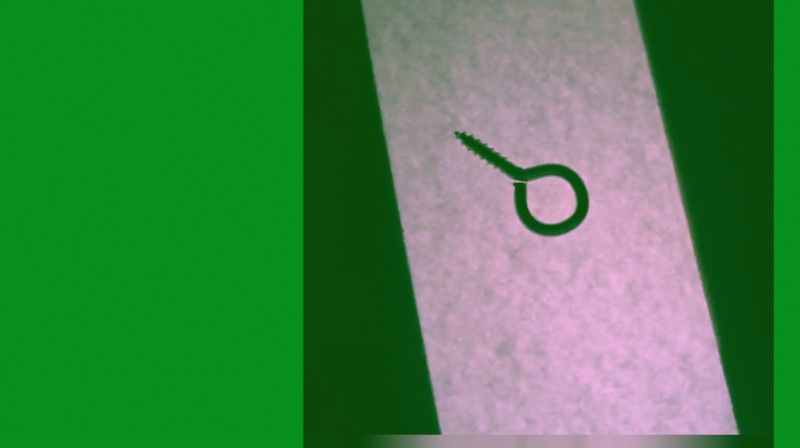O001: (450, 125, 593, 238)
